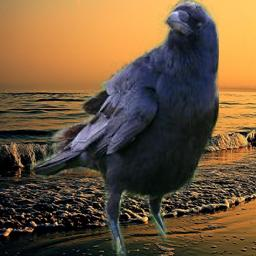Crow: (30, 0, 219, 256)
